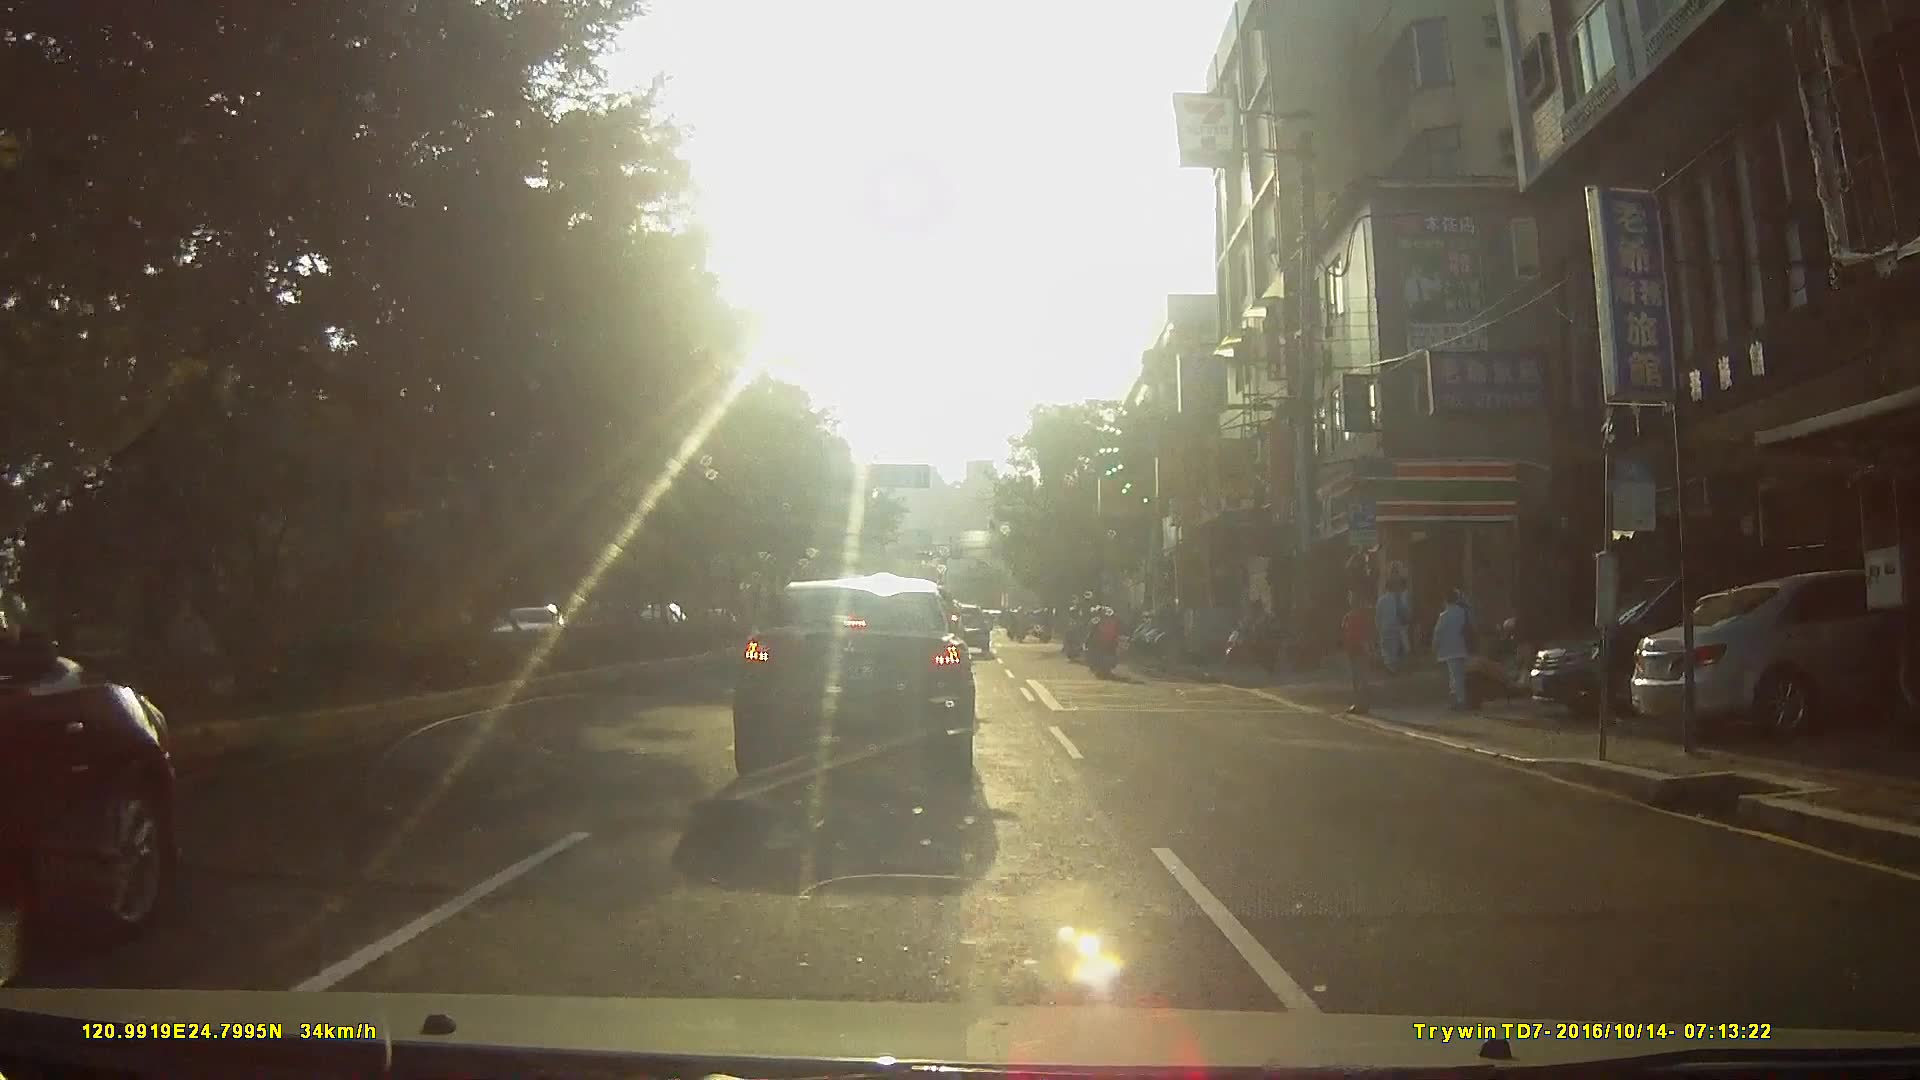pedestrian: (1427, 584, 1483, 712), (1344, 591, 1379, 722)
rider: (1084, 604, 1122, 681), (1062, 604, 1086, 659)
vehicle: (1, 598, 186, 984), (1519, 541, 1920, 715), (1622, 569, 1918, 742), (723, 574, 988, 754)
